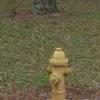Hydrant: (42, 41, 74, 100)
